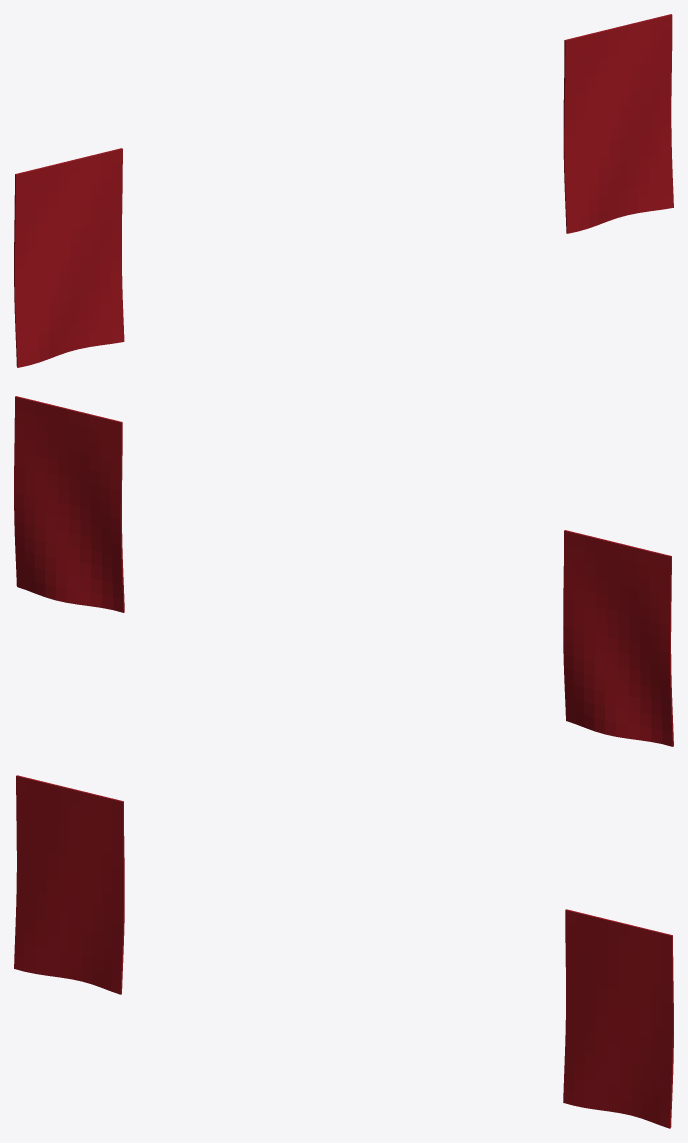
Rendered from FacadeBanners.fbx.
3 views of the same model, one above another, from view 1: azimuth 30°, elevation 25°; view 2: azimuth 150°, elevation 25°; view 3: azimuth 330°, elevation 25° (orthographic).
Visible parts, largest first — view 1: FacadeBanner-18.001; view 2: FacadeBanner-18.001; view 3: FacadeBanner-18.001.
Part boxes in pixels (bbox=[...]): FacadeBanner-18.001: bbox=[14, 14, 673, 367]; FacadeBanner-18.001: bbox=[14, 396, 673, 746]; FacadeBanner-18.001: bbox=[14, 775, 673, 1128].
Bounding box in the file's own units: 4302 × 1201 × 61.66.
